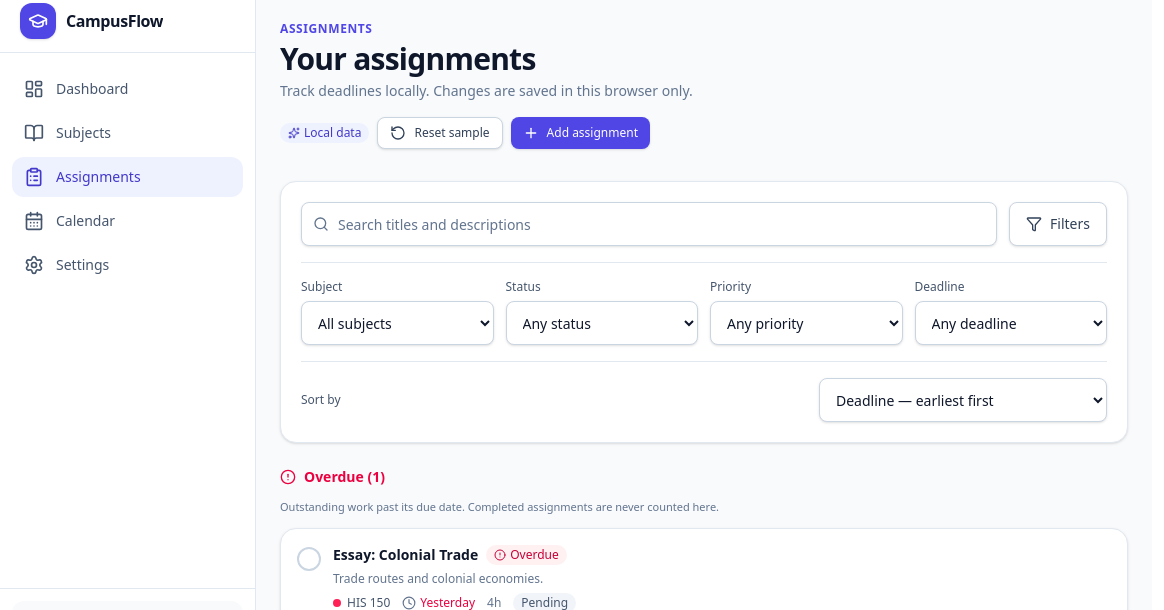
premature success reporting › shows a global notice that agrees with the inline message
This screenshot has width=1164, height=610.
Click the button "Add assignment".
click(580, 133)  # box x1=511 y1=117 x2=650 y2=149
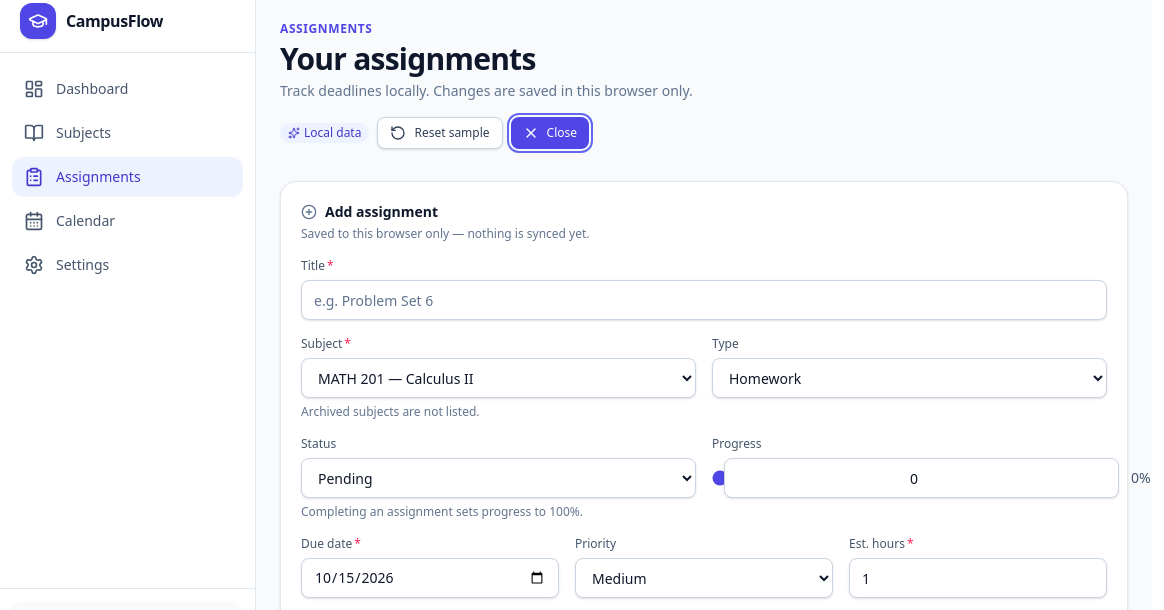
Type "Unsaveable" into the field labelled "Title*".
click(704, 300); type("Unsaveable")  # box x1=301 y1=280 x2=1107 y2=320
(page scrolled)
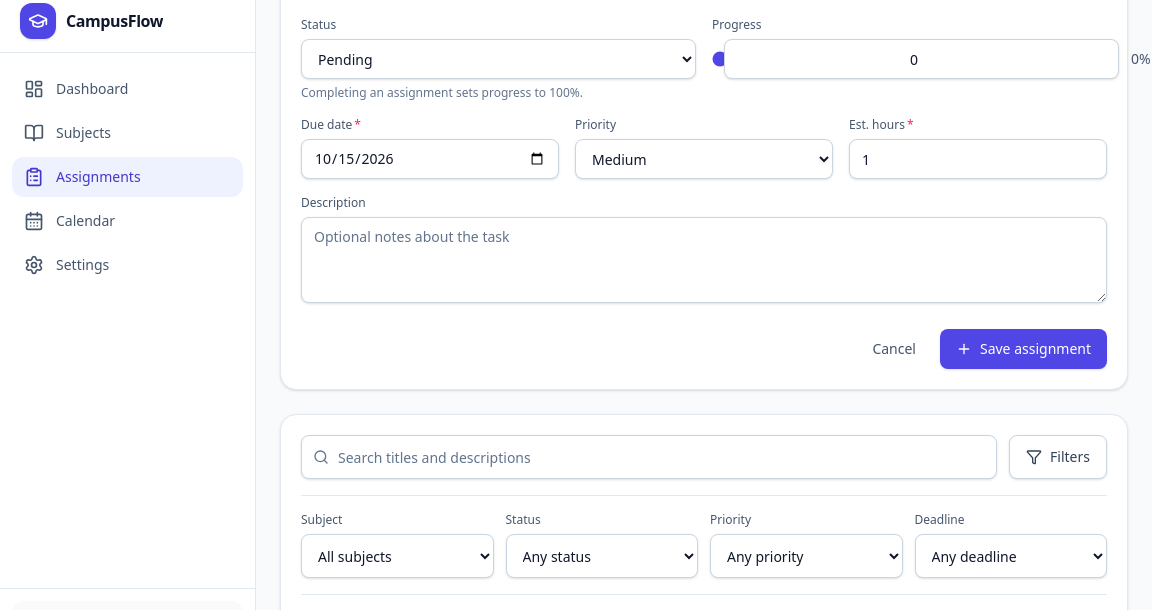
Click the button "Save assignment".
click(1024, 349)  # box x1=940 y1=329 x2=1107 y2=369
(page scrolled)
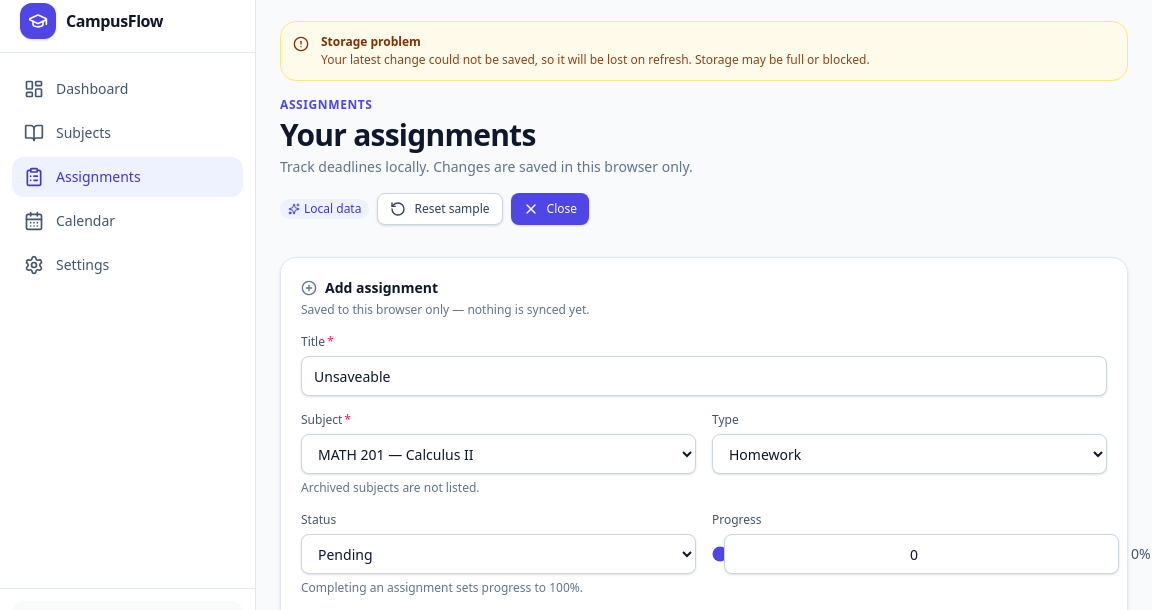
Check: the message shows "could not be saved", box x1=321 y1=51 x2=870 y2=68
